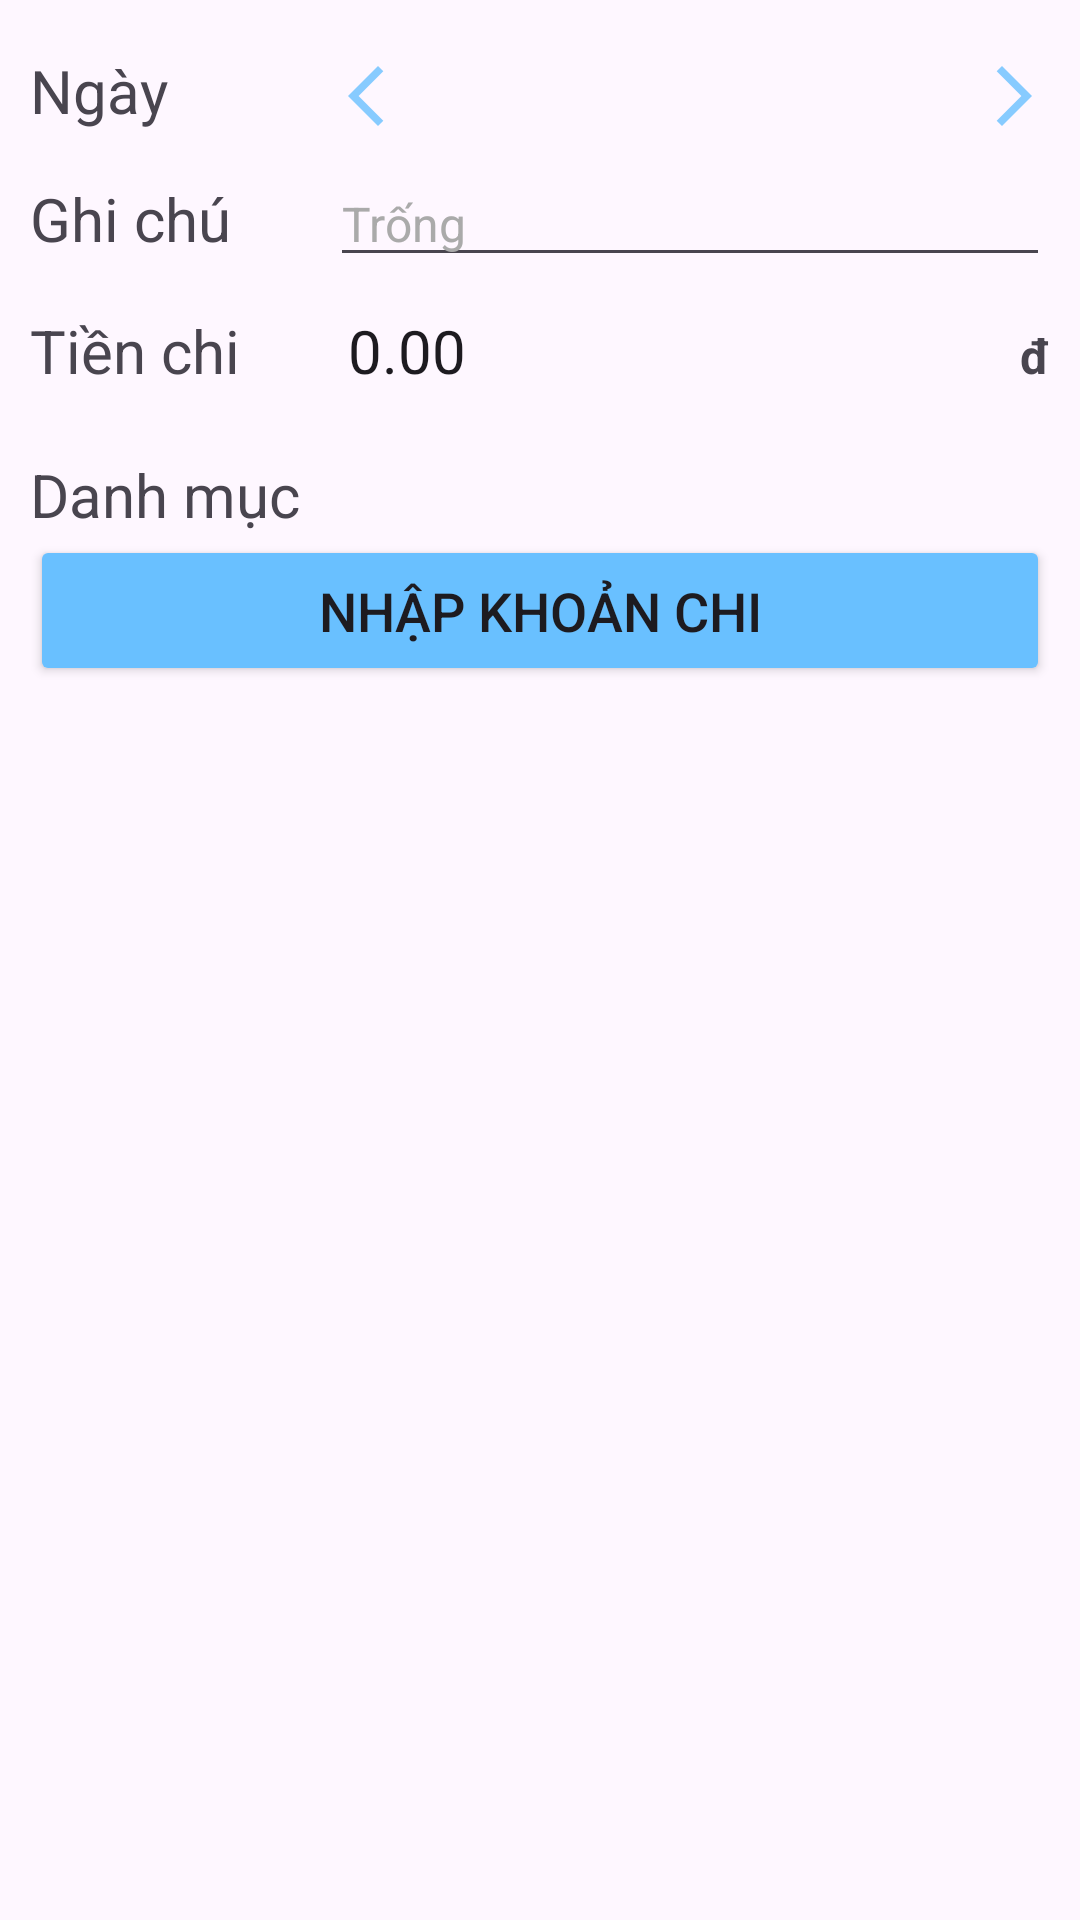

Icons on this 1080 × 1920 Android screen, each with the point to tap as (x=x, y=y):
back: (x=365, y=96)
next: (x=1014, y=96)
